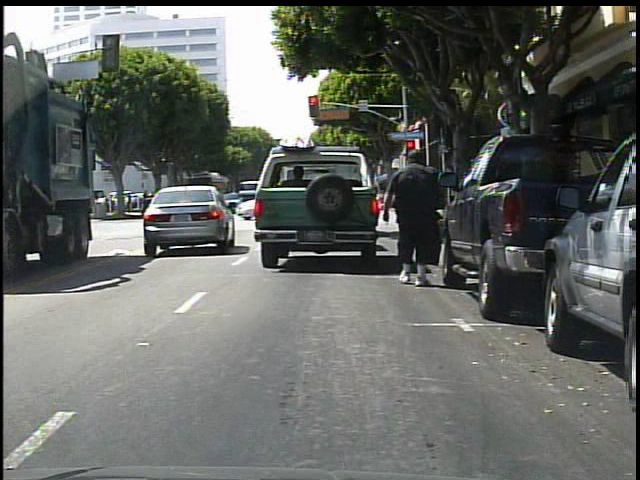person: (389, 149, 445, 287)
